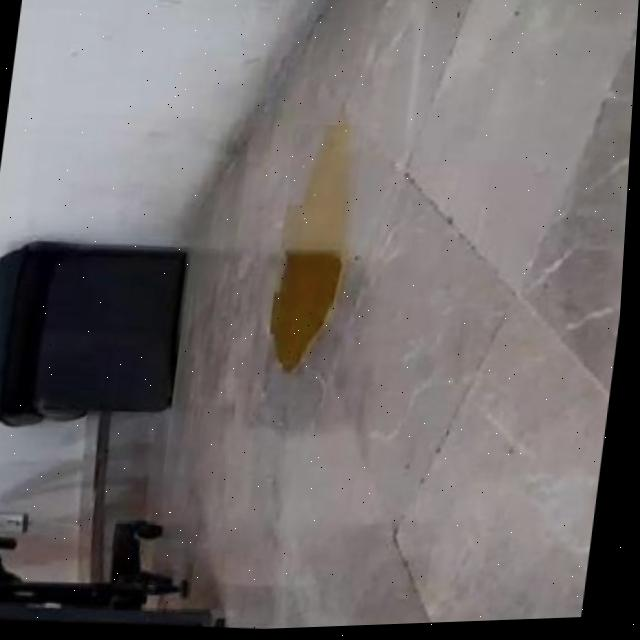spillage: (275, 128, 354, 376)
